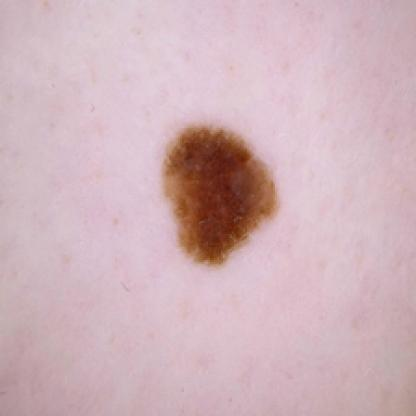Skin_Cancer-Malignant: (157, 121, 282, 271)
